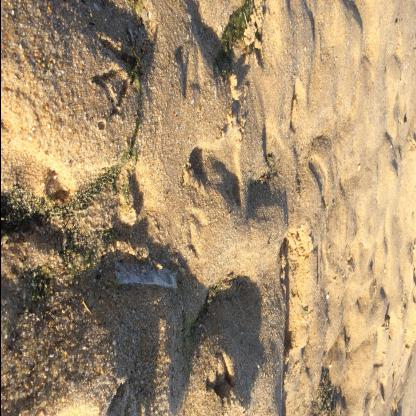plastik: (112, 260, 176, 290)
